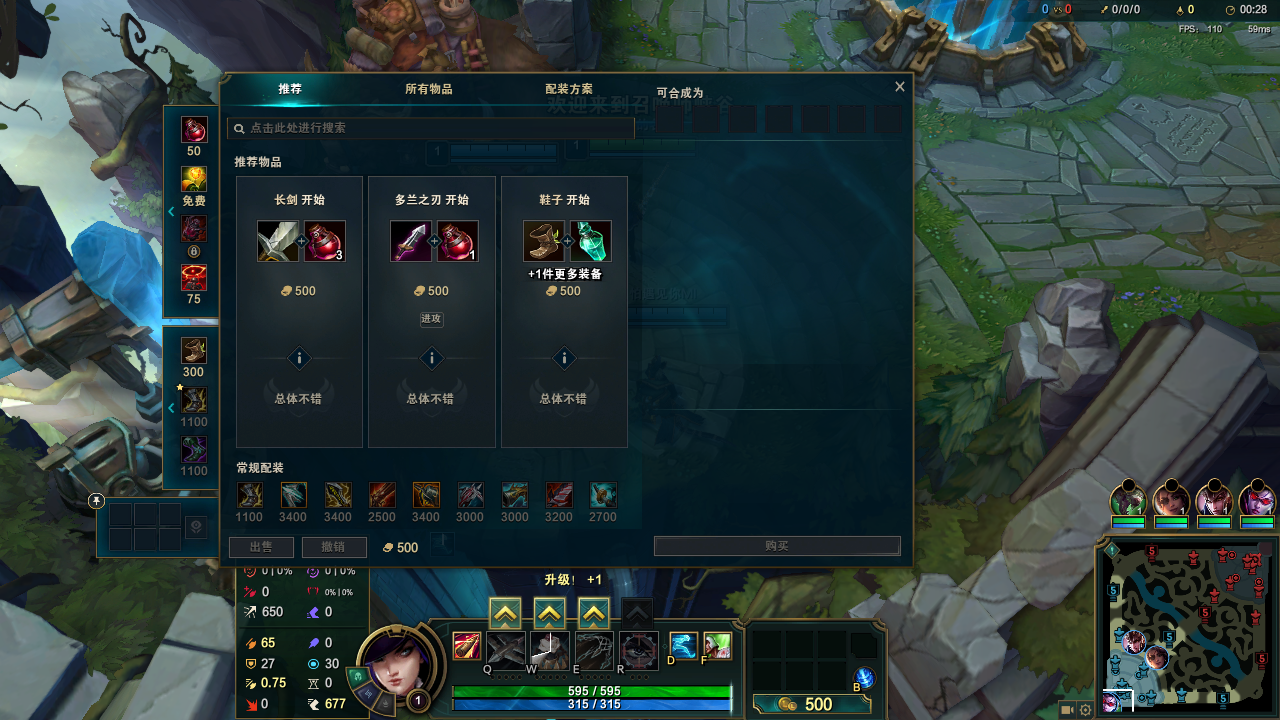GTH: (551, 345, 578, 373), (419, 348, 446, 372), (285, 347, 312, 370)
Shenji: (579, 600, 606, 623), (537, 603, 562, 627), (491, 600, 516, 623)
TJJM: (257, 78, 322, 111)
